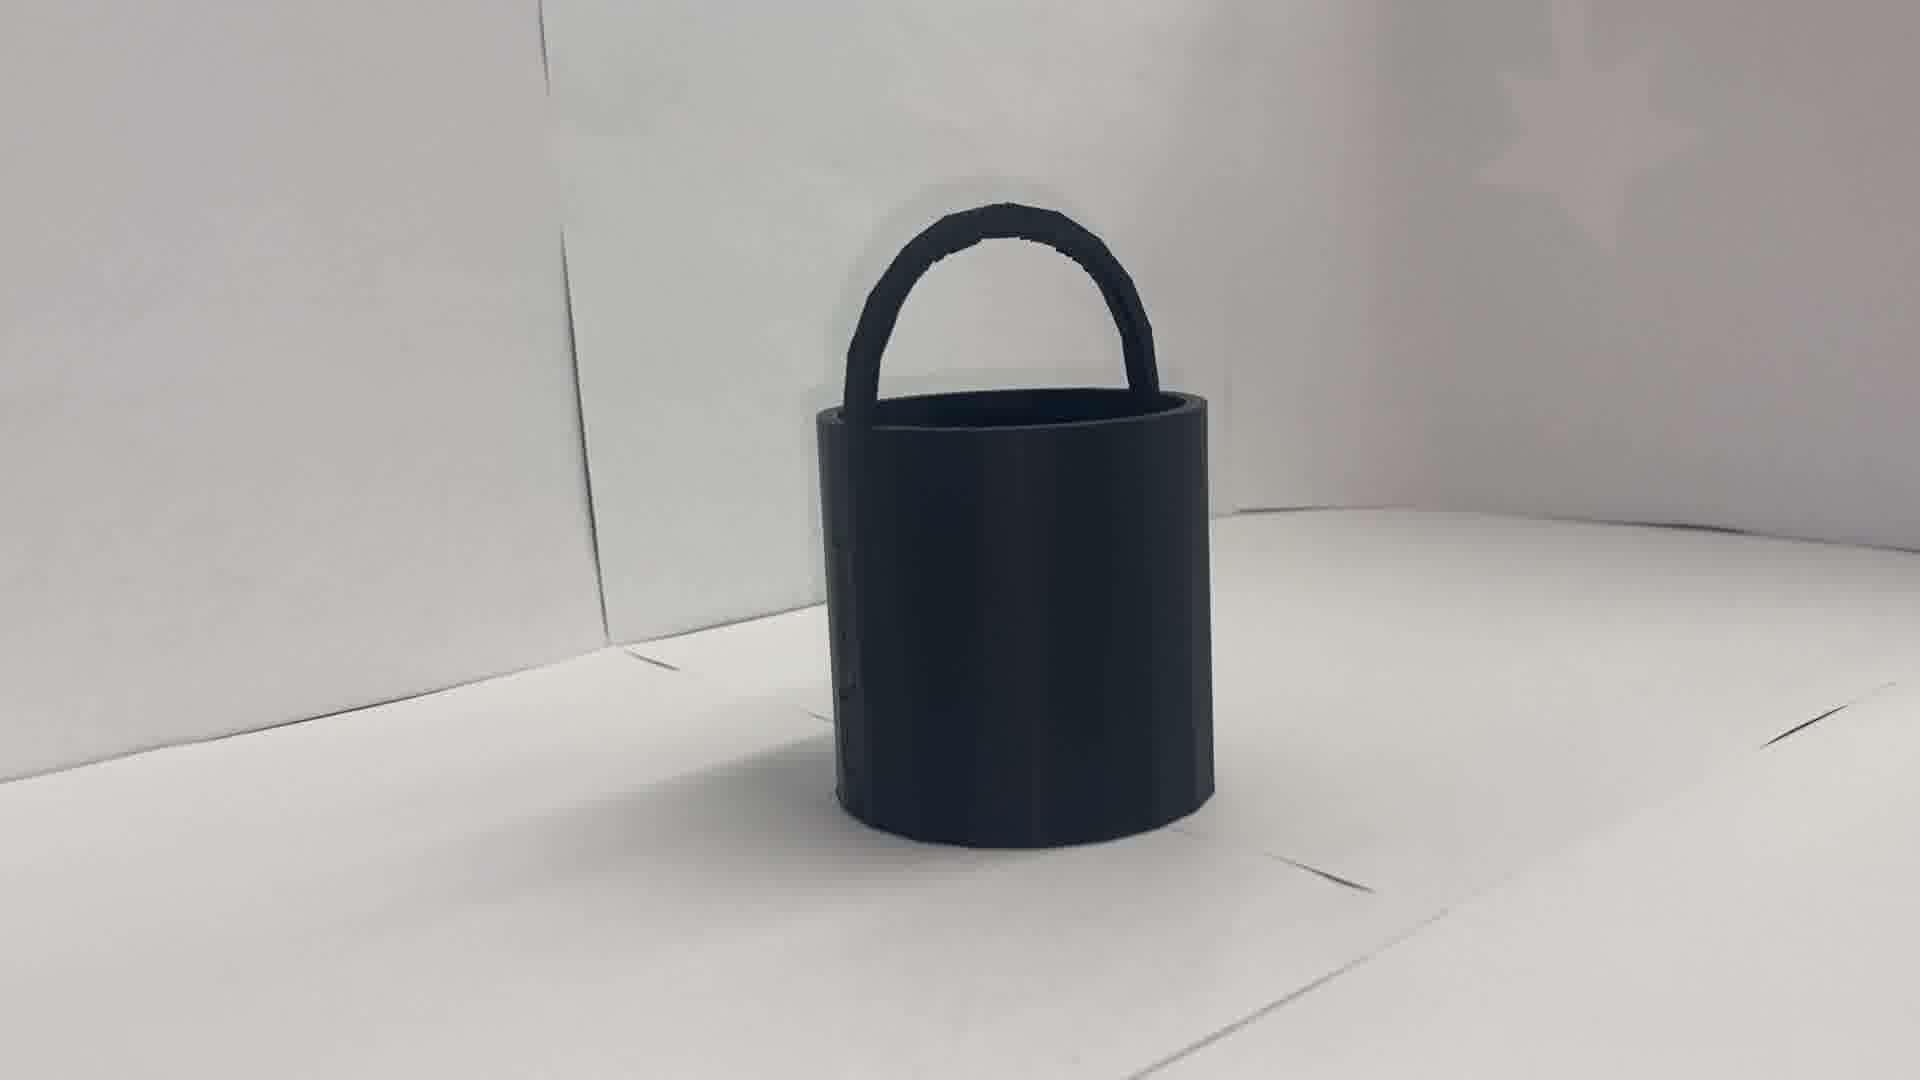bag: (810, 193, 1221, 856)
